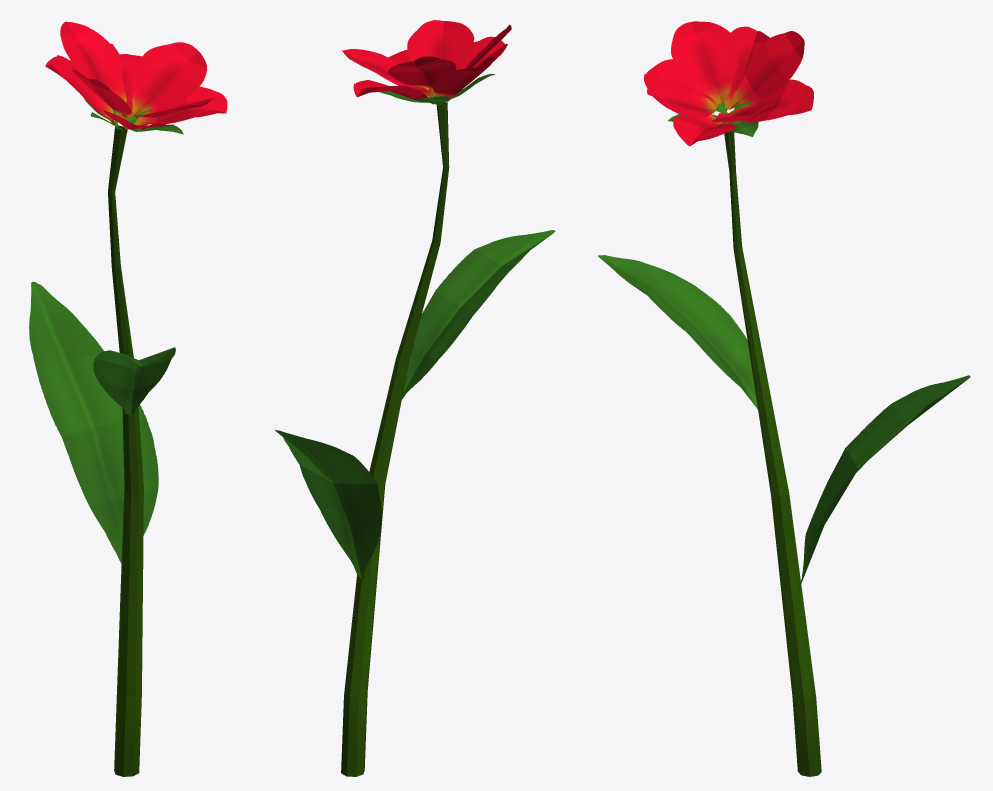
File: cicek_1.fbx
3 renders of one model, left to right at view 1: azimuth 30°, elevation 25°; view 2: azimuth 150°, elevation 25°; view 3: azimuth 270°, elevation 25°, orthographic. The views are drawn at different scales.
Visible parts, largest first — view 1: cicek_01; view 2: cicek_01; view 3: cicek_01.
Boxes of the visible parts, <box> form: cicek_01: <box>29,21,227,776</box>; cicek_01: <box>275,20,555,776</box>; cicek_01: <box>598,21,970,776</box>.
Size of the model in its own units: 0.1551 by 0.344 by 0.6966.
